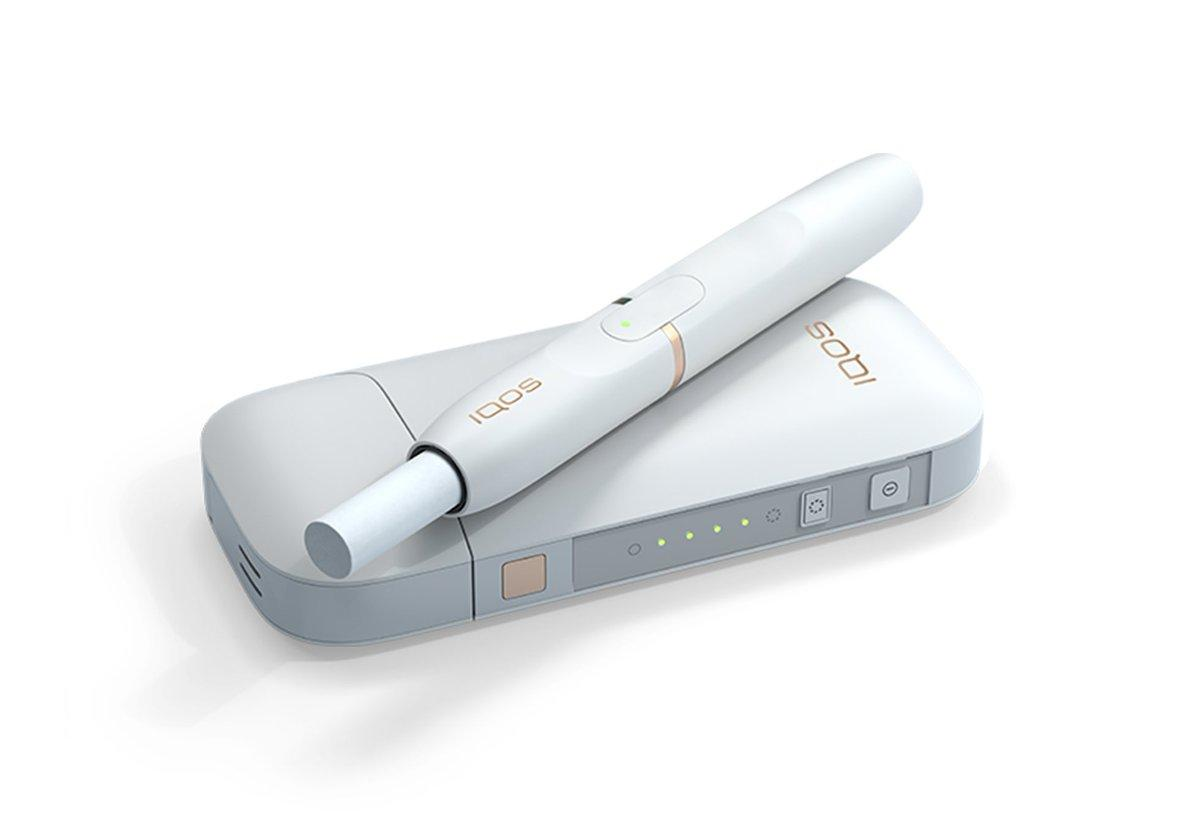iqos: (303, 156, 921, 578)
